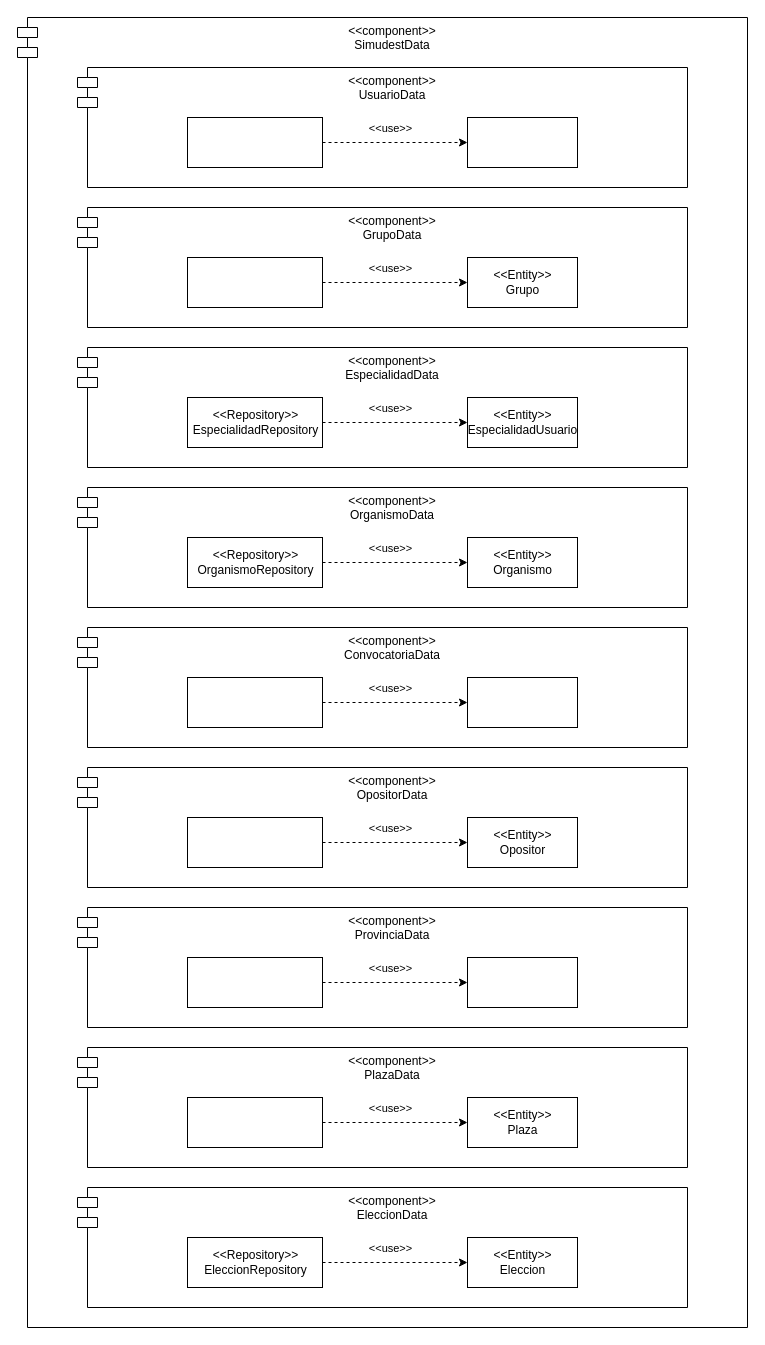
This 765x1345 diagram has some shape labels left out. Here are the shapes that lost their labels. From the top down, the centre of each, then its label:
At [254,142]: "<<Repository>> UsuarioRepository".
At [522,142]: "<<Entity>> Usuario".
At [254,282]: "<<Repository>> GrupoRepository".
At [254,702]: "<<Repository>> ConvocatoriaRepository".
At [522,702]: "<<Entity>> Convocatoria".
At [254,842]: "<<Repository>> OpositorRepository".
At [254,982]: "<<Repository>> ProvinciaRepository".
At [522,982]: "<<Entity>> Provincia".
At [254,1122]: "<<Repository>> PlazaRepository".
